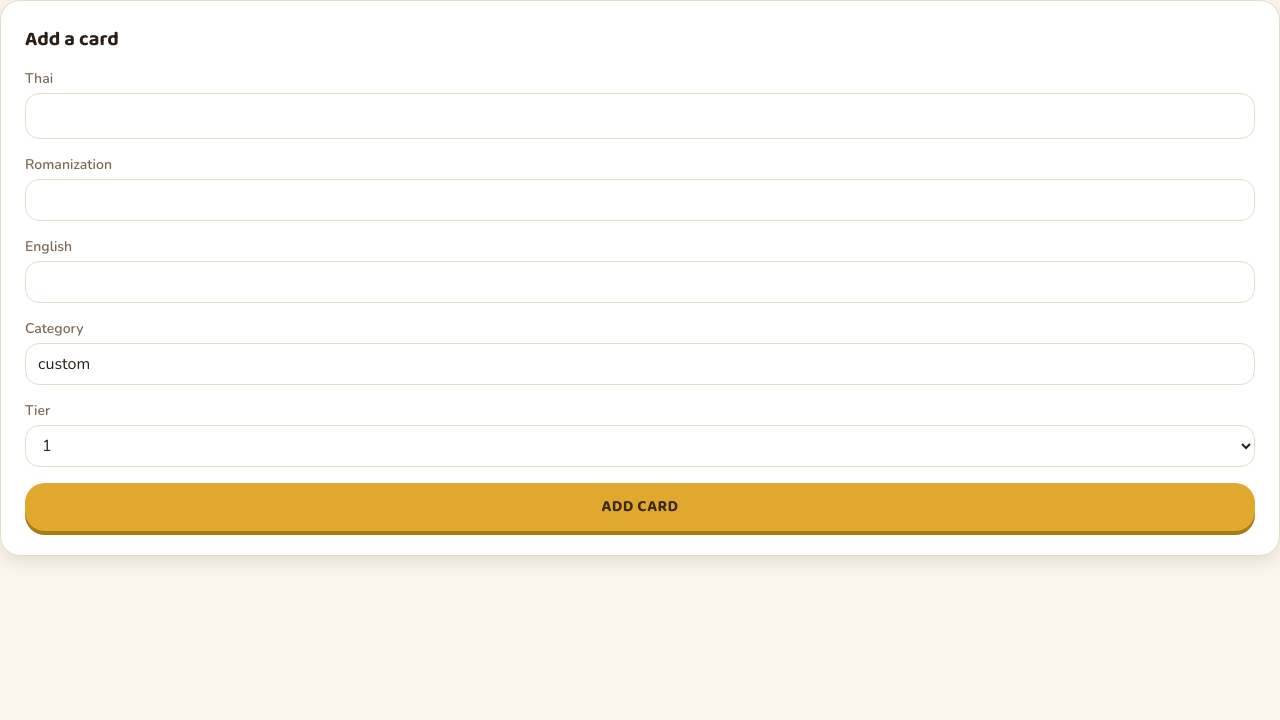
AddCardForm › validates required fields
Click the button "Add card". click: (640, 507)
box: [25,483,1255,531]
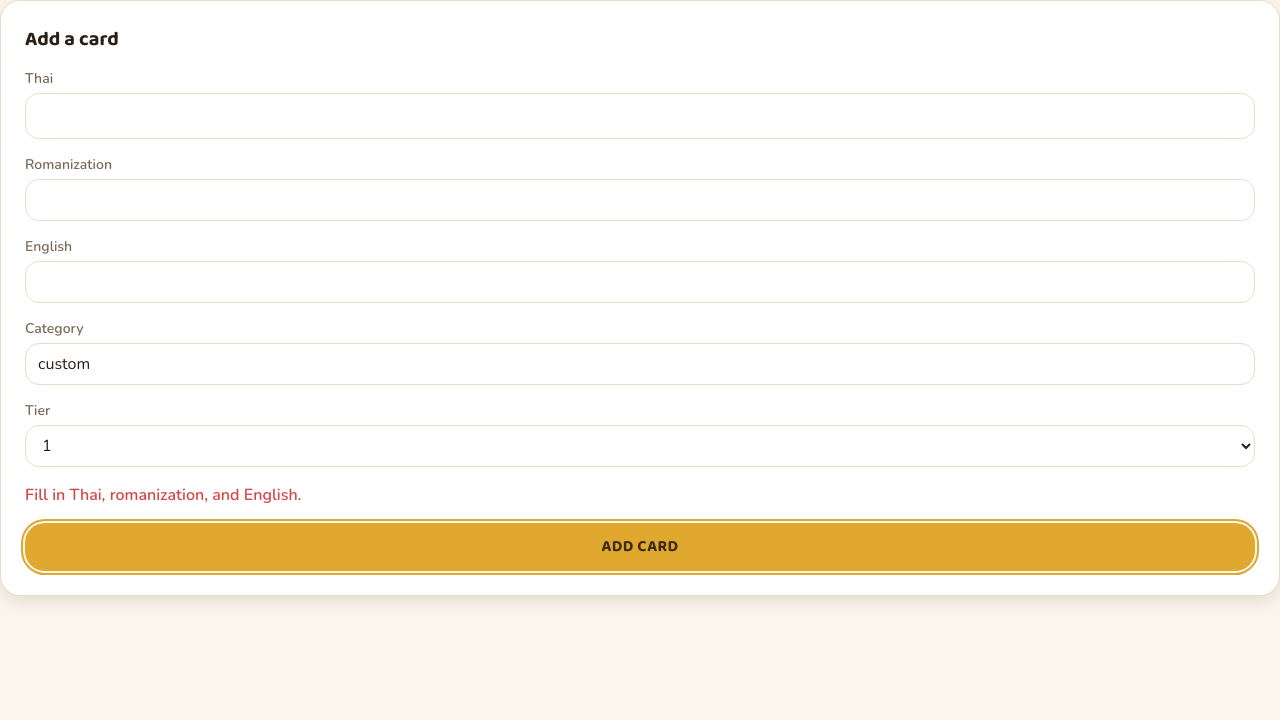
Expected: the text "Fill in Thai, romanization, and English." is shown, [25,484,301,506]
